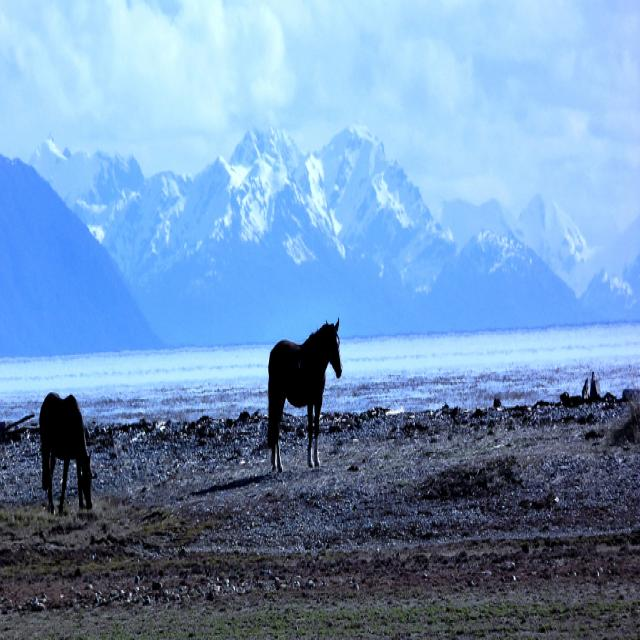Horse: (272, 314, 342, 481), (41, 387, 93, 519)
